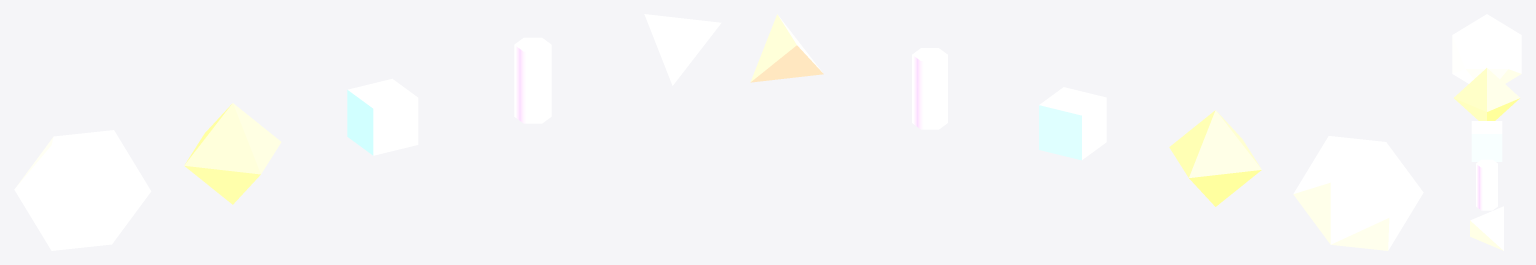
Rendered from starfield.atlas.glb.
3 views of the same model, side by side, from view 1: azimuth 30°, elevation 25°; view 2: azimuth 150°, elevation 25°; view 3: azimuth 270°, elevation 25° (orthographic). The views are drawn at different scales.
Parts seen in each view (by area): view 1: star_L0, star_L1, star_L2, star_L3, star_L4; view 2: star_L0, star_L1, star_L2, star_L3, star_L4; view 3: star_L0, star_L1, star_L2, star_L3, star_L4.
Boxes of the visible parts, x1,y1,x2,y2 form: star_L0: (14, 130, 151, 250); star_L1: (184, 103, 281, 204); star_L2: (347, 78, 418, 155); star_L3: (514, 37, 551, 123); star_L4: (644, 14, 721, 85); star_L0: (1293, 136, 1423, 250); star_L1: (1169, 110, 1261, 206); star_L2: (1039, 87, 1106, 160); star_L3: (912, 48, 947, 129); star_L4: (750, 14, 823, 82); star_L0: (1452, 14, 1521, 83); star_L1: (1454, 68, 1519, 120); star_L2: (1471, 121, 1502, 161); star_L3: (1476, 159, 1497, 210); star_L4: (1470, 206, 1503, 250).
Size of the model in its own units: 10.8 by 1.62 by 1.62.
